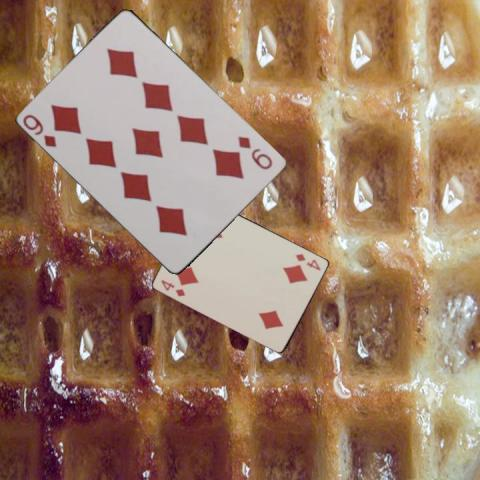4d: (293, 251, 322, 272), (158, 277, 187, 298)
9d: (234, 133, 274, 171), (20, 111, 59, 149)
